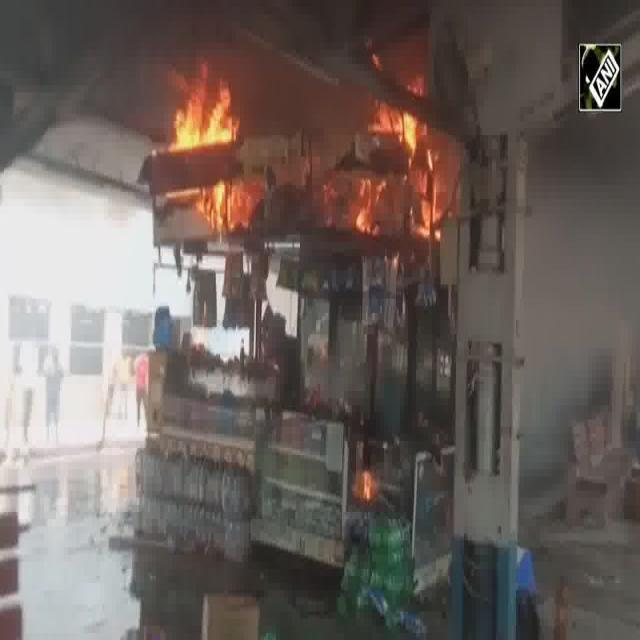Fire: (358, 70, 439, 231), (168, 60, 248, 220)
